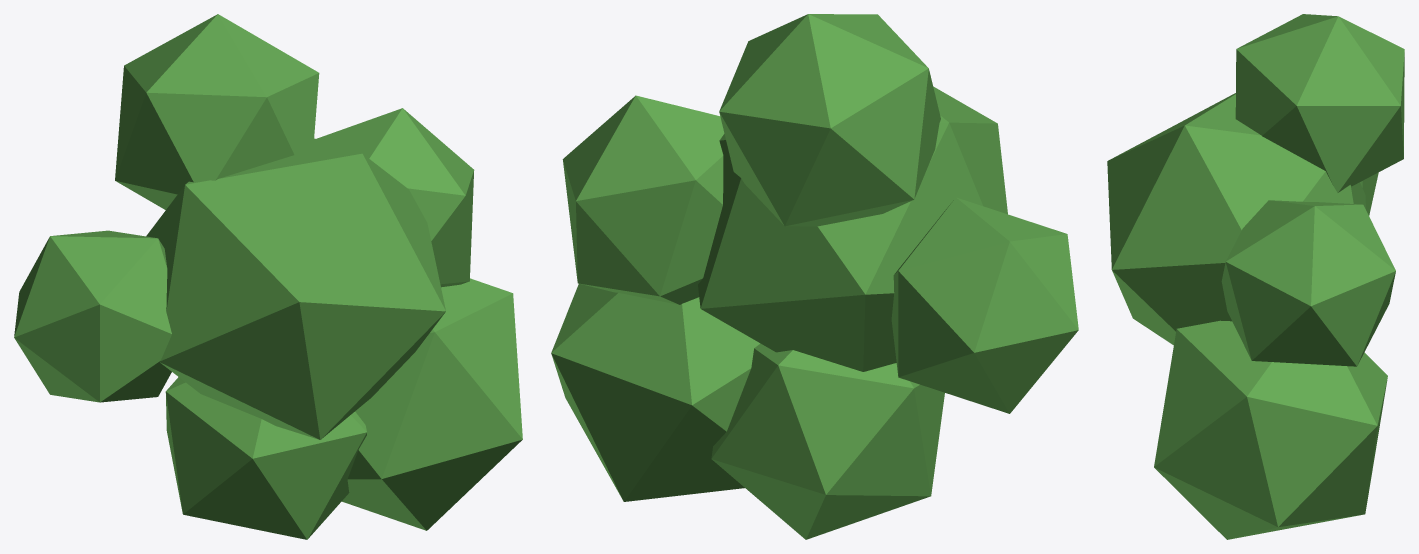
File: bush-1-temperate.glb
The picture shows the model from 3 angles, left to right: view 1: azimuth 30°, elevation 25°; view 2: azimuth 150°, elevation 25°; view 3: azimuth 270°, elevation 25°; orthographic projection. The views are drawn at different scales.
Visible parts, largest first — view 1: Icosphere.005_0; view 2: Icosphere.005_0; view 3: Icosphere.005_0.
Boxes of the visible parts, box(x1,y1,x2,y2) form: Icosphere.005_0: box(14, 14, 522, 539); Icosphere.005_0: box(551, 14, 1078, 539); Icosphere.005_0: box(1107, 14, 1404, 539).
Bounding box in the file's own units: 4.48 × 4.5 × 2.65.
